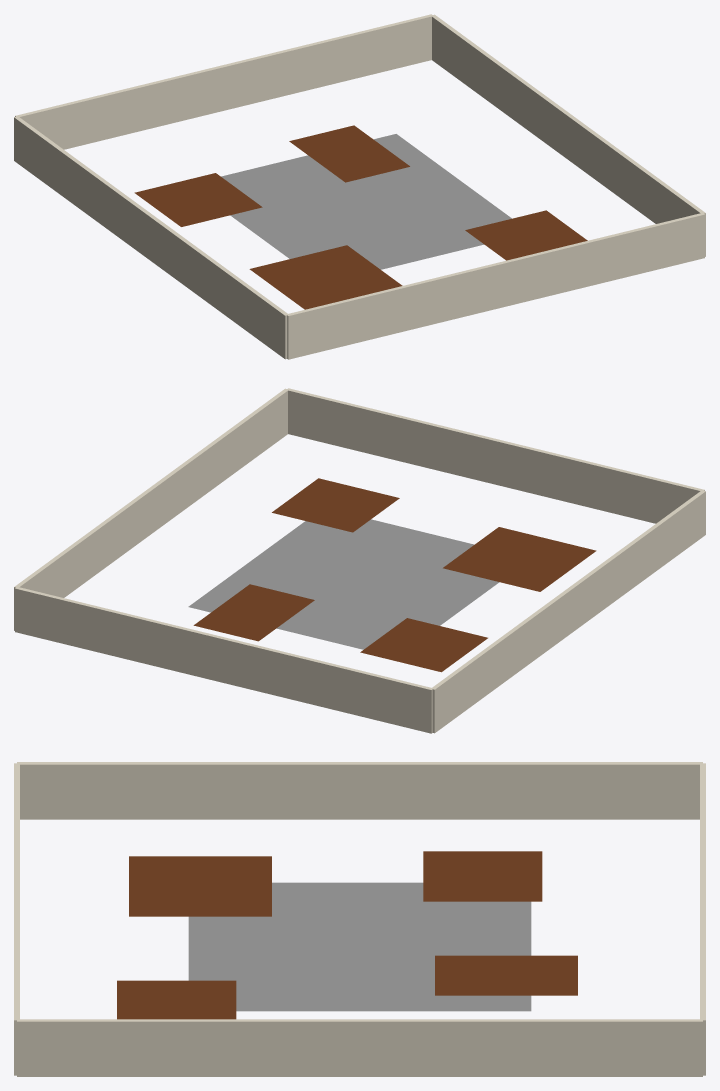
The model's file is boq_professional_797df628-a2b3-4fac-8c77-9aa97039ab4d.obj.
3 views of the same model, one above another, from view 1: azimuth 30°, elevation 25°; view 2: azimuth 150°, elevation 25°; view 3: azimuth 270°, elevation 25° (orthographic). The views are drawn at different scales.
Visible parts, largest first — view 1: Foundation, ExteriorWall_South, ExteriorWall_North, ExteriorWall_West, ExteriorWall_East, Floor_Living_Room_1, Floor_Bedroom_2, Floor_Kitchen_1, Floor_Bedroom_1; view 2: Foundation, ExteriorWall_North, ExteriorWall_South, ExteriorWall_West, ExteriorWall_East, Floor_Living_Room_1, Floor_Bedroom_1, Floor_Bedroom_2, Floor_Kitchen_1; view 3: ExteriorWall_East, ExteriorWall_West, Foundation, Floor_Living_Room_1, Floor_Bedroom_2, Floor_Kitchen_1, Floor_Bedroom_1, ExteriorWall_North, ExteriorWall_South.
Boxes of the visible parts, <box> form: Foundation: <box>221,134,511,269</box>; ExteriorWall_South: <box>286,213,704,359</box>; ExteriorWall_North: <box>15,14,433,149</box>; ExteriorWall_West: <box>14,116,288,359</box>; ExteriorWall_East: <box>432,14,705,256</box>; Floor_Living_Room_1: <box>249,245,402,309</box>; Floor_Bedroom_2: <box>134,173,262,226</box>; Floor_Kitchen_1: <box>289,125,409,182</box>; Floor_Bedroom_1: <box>465,210,587,260</box>; Foundation: <box>188,519,499,649</box>; ExteriorWall_North: <box>15,586,432,733</box>; ExteriorWall_South: <box>286,388,704,523</box>; ExteriorWall_West: <box>432,491,705,733</box>; ExteriorWall_East: <box>14,388,287,630</box>; Floor_Living_Room_1: <box>443,527,596,591</box>; Floor_Bedroom_1: <box>272,478,399,532</box>; Floor_Bedroom_2: <box>360,618,487,672</box>; Floor_Kitchen_1: <box>193,584,314,641</box>; ExteriorWall_East: <box>17,1019,702,1076</box>; ExteriorWall_West: <box>17,762,702,819</box>; Foundation: <box>188,882,531,1011</box>; Floor_Living_Room_1: <box>129,856,271,916</box>; Floor_Bedroom_2: <box>423,851,542,901</box>; Floor_Kitchen_1: <box>435,955,577,995</box>; Floor_Bedroom_1: <box>117,980,236,1019</box>; ExteriorWall_North: <box>700,763,705,1075</box>; ExteriorWall_South: <box>14,763,19,1075</box>.
Size of the model in its own units: 30.3 by 3 by 34.12.
